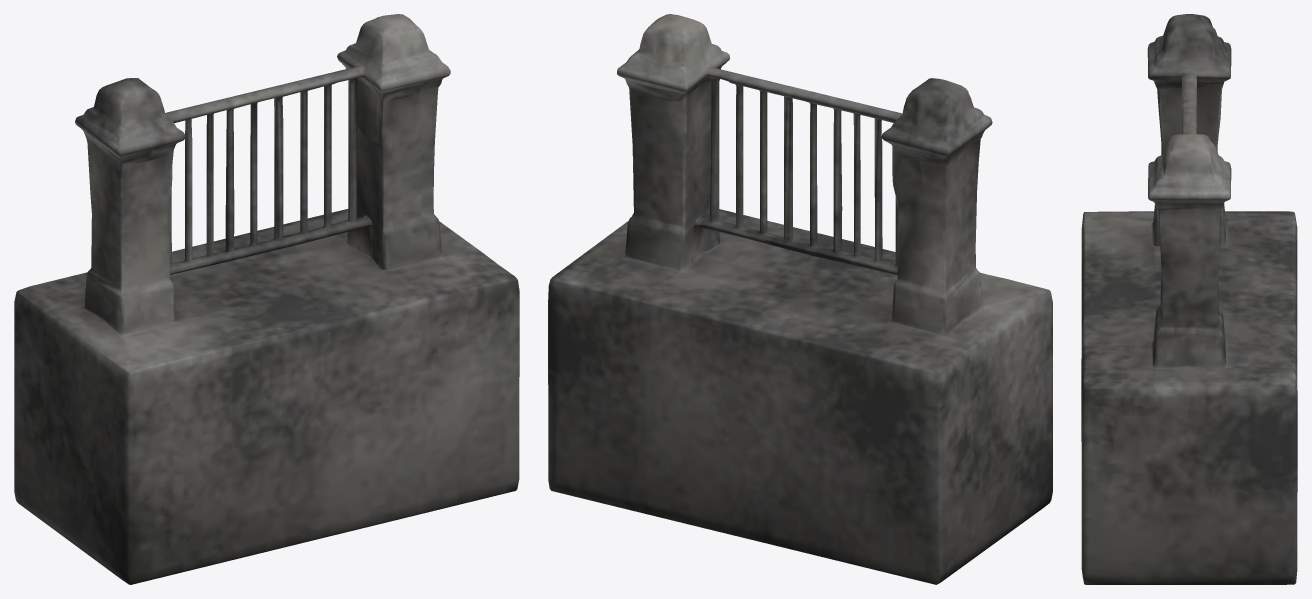
The model's file is ancient-granite-balcony-v001.glb.
The picture shows the model from 3 angles, left to right: view 1: azimuth 30°, elevation 25°; view 2: azimuth 150°, elevation 25°; view 3: azimuth 270°, elevation 25°; orthographic projection. The views are drawn at different scales.
Parts seen in each view (by area): view 1: ancient-granite-balcony; view 2: ancient-granite-balcony; view 3: ancient-granite-balcony.
Boxes of the visible parts, left/top/right/bottom form: ancient-granite-balcony: left=14, top=14, right=519, bottom=584; ancient-granite-balcony: left=548, top=14, right=1052, bottom=584; ancient-granite-balcony: left=1081, top=14, right=1297, bottom=584.
Size of the model in its own units: 0.9723 by 1.06 by 0.4963.
1 material, 1 textured.
